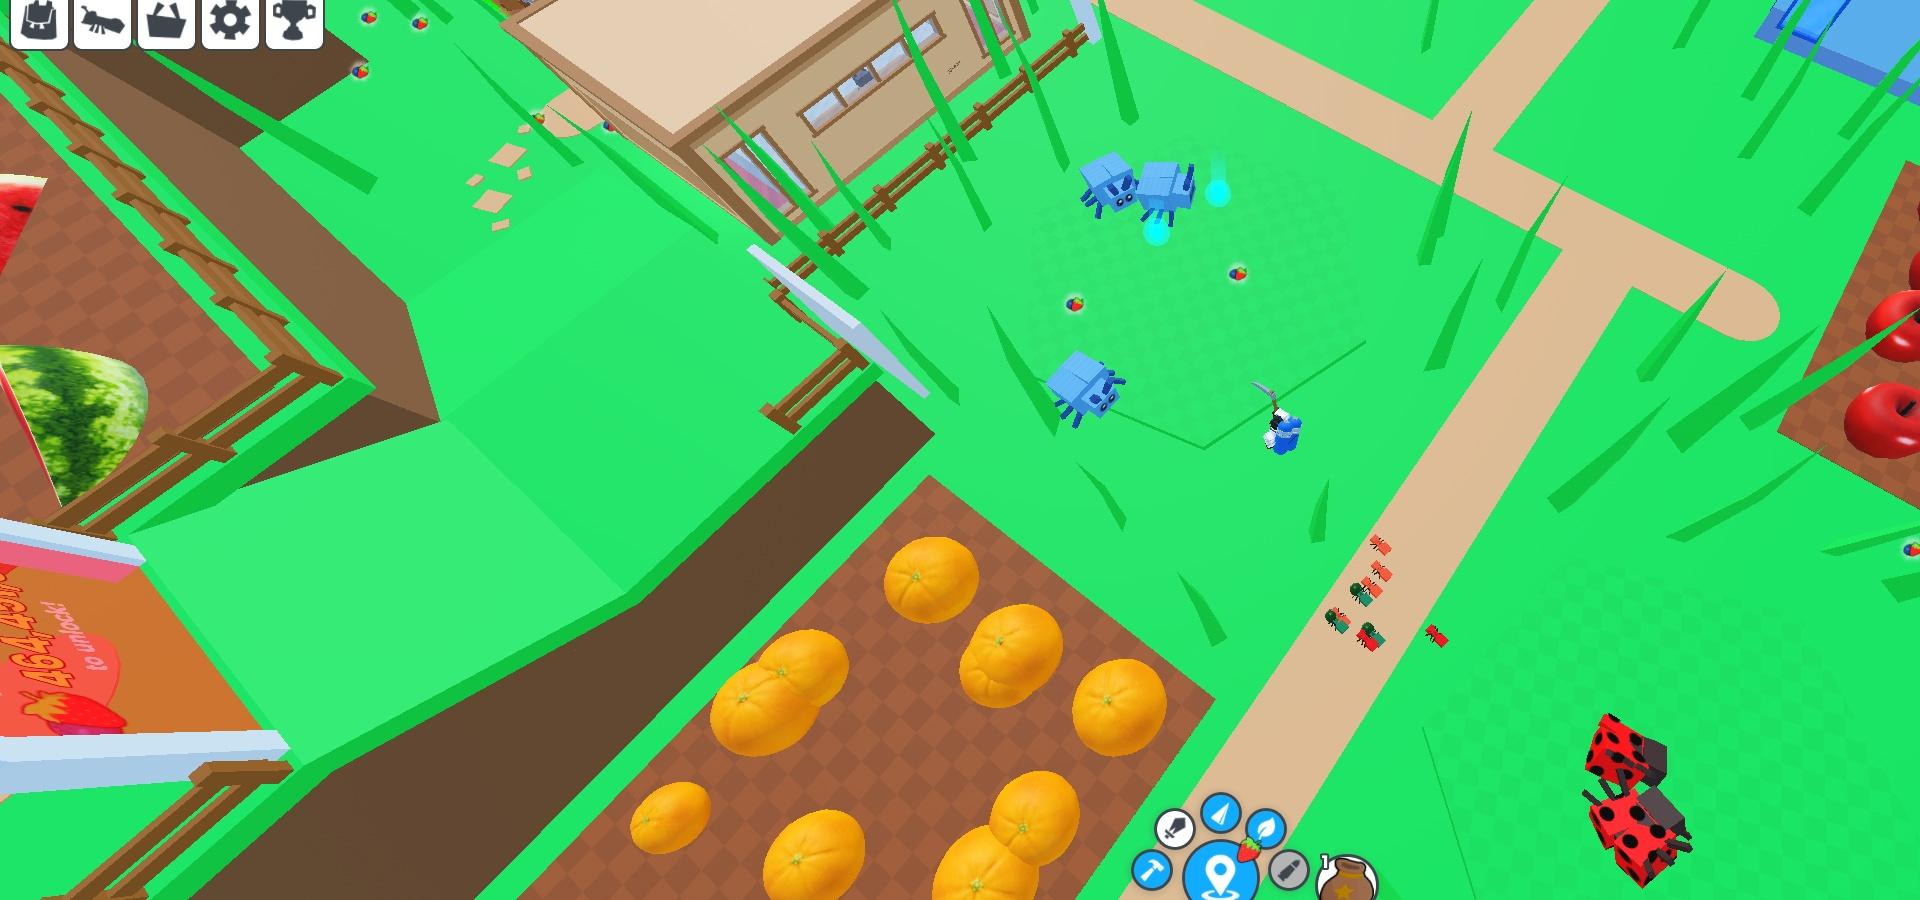Enemy: (1578, 714, 1696, 890), (1042, 349, 1123, 432), (1076, 151, 1136, 219), (1135, 159, 1194, 218)
